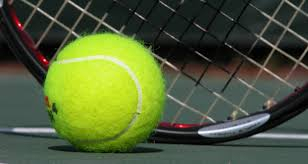tennis_ball: (42, 32, 169, 155)
